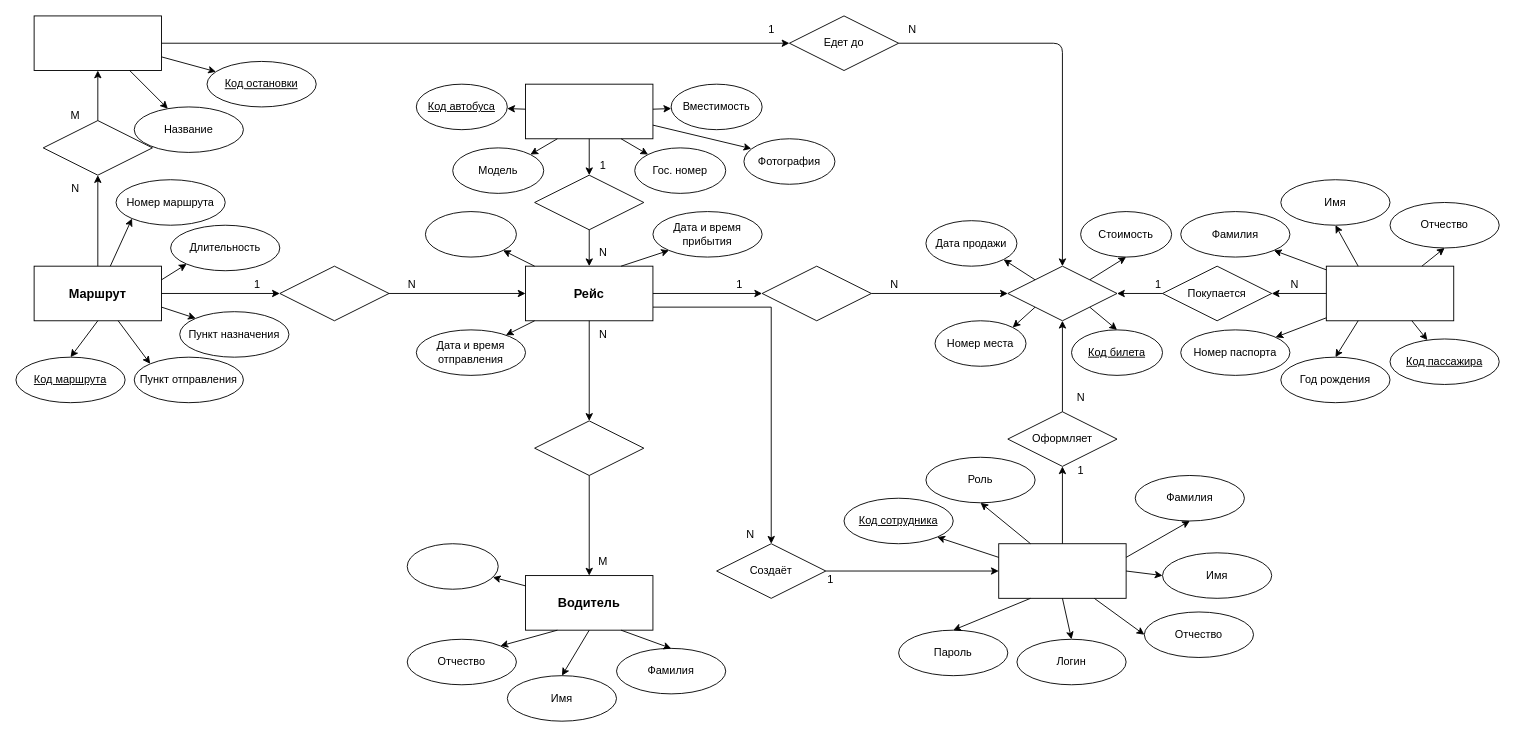
This 1515x737 diagram has some shape labels left out. The shapes that lost their labels are listed below. From the top down, each one's centre as x and y in pixels, then its label:
pixel 97 43: Остановка
pixel 589 111: Автобус
pixel 97 147: Включает
pixel 589 202: Выполняется на
pixel 470 234: Код рейса
pixel 334 293: Реализуется в
pixel 816 293: Продажа на
pixel 1062 293: Билет
pixel 1389 293: Пассажир
pixel 589 447: Управляется
pixel 452 566: Код водителя
pixel 1062 570: Сотрудник
